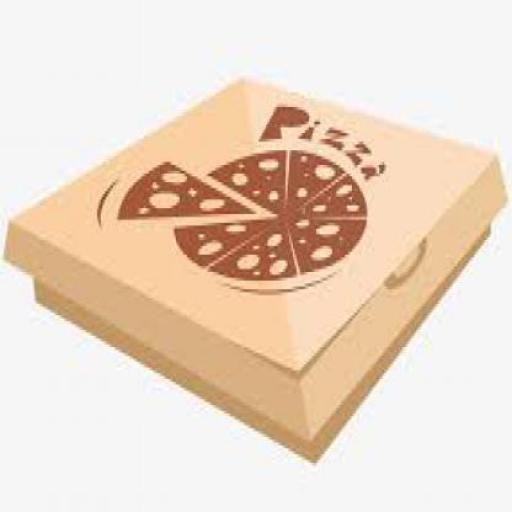cardboard: (0, 69, 505, 463)
